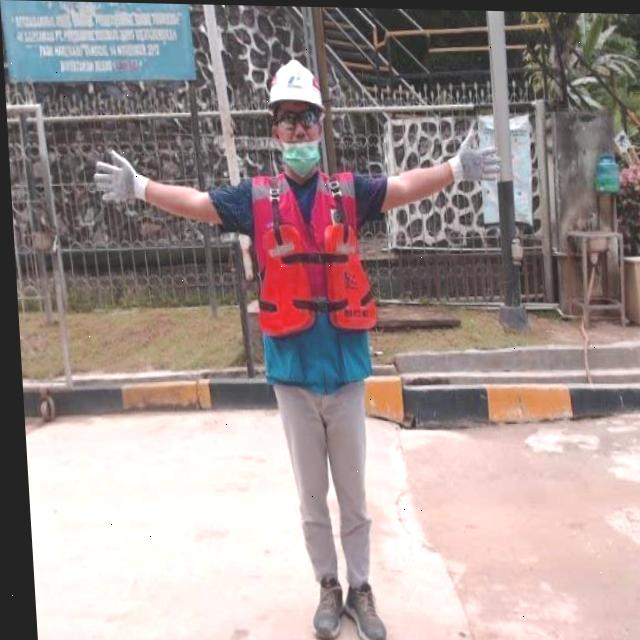Gloves: (88, 147, 148, 204), (444, 124, 500, 182)
Helmet: (262, 55, 324, 110)
Safety-Boot: (334, 579, 379, 640), (302, 573, 337, 639)
Safety-Vest: (245, 166, 375, 338)
